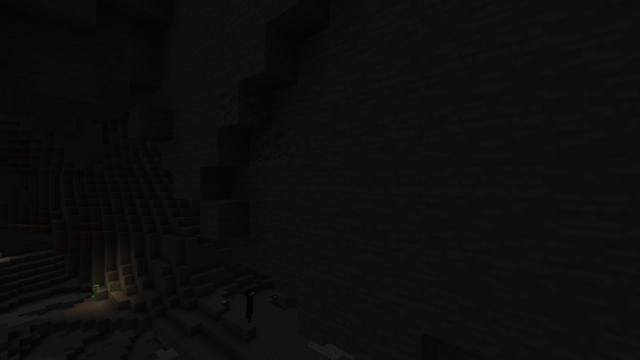creepers: (92, 283, 99, 299)
endermens: (244, 287, 253, 324)
